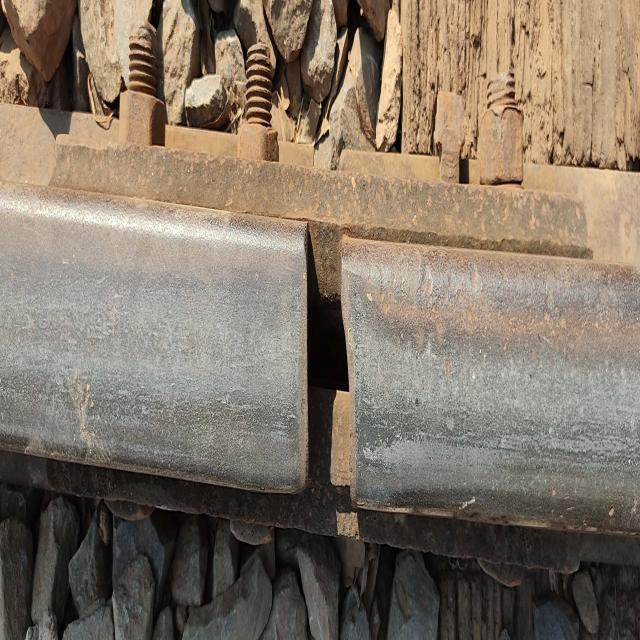broken_rail_medium: (291, 213, 375, 530)
